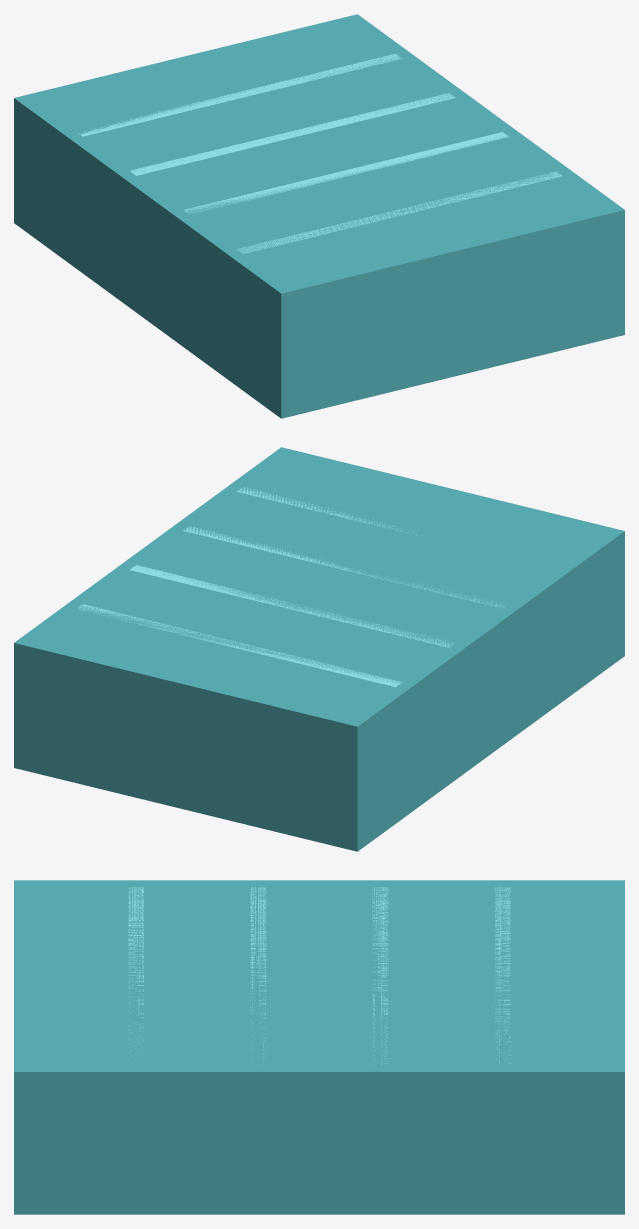
File: storage-shelving.glb
The picture shows the model from 3 angles, top to bottom: view 1: azimuth 30°, elevation 25°; view 2: azimuth 150°, elevation 25°; view 3: azimuth 270°, elevation 25°; orthographic projection. The views are drawn at different scales.
Parts seen in each view (by area): view 1: back, top, left, right, shelf2, shelf3, shelf4, shelf1, bottom; view 2: back, bottom, left, right, shelf1, shelf2, top, shelf3, shelf4; view 3: back, right, bottom, top, left, shelf1, shelf2, shelf4, shelf3.
Boxes of the visible parts, x1,y1,x2,y2 form: back: (14, 14, 624, 305); top: (274, 205, 624, 417); left: (14, 98, 293, 418); right: (347, 15, 624, 337); shelf2: (130, 93, 455, 175); shelf3: (183, 132, 508, 214); shelf4: (237, 171, 562, 253); shelf1: (79, 53, 402, 136); bottom: (14, 16, 360, 227); back: (14, 447, 624, 738); bottom: (14, 638, 364, 851); left: (345, 531, 624, 851); right: (14, 448, 289, 770); shelf1: (78, 604, 401, 686); shelf2: (130, 565, 454, 647); top: (276, 447, 624, 660); shelf3: (183, 526, 504, 607); shelf4: (237, 487, 438, 540); back: (14, 880, 624, 1085); right: (14, 1065, 624, 1214); bottom: (609, 880, 624, 1214); top: (14, 880, 29, 1214); left: (14, 880, 624, 886); shelf1: (495, 887, 510, 1063); shelf2: (372, 887, 388, 1064); shelf4: (128, 887, 143, 1065); shelf3: (250, 887, 266, 1062).
Size of the model in its own units: 1.15 by 0.4 by 1.55.
